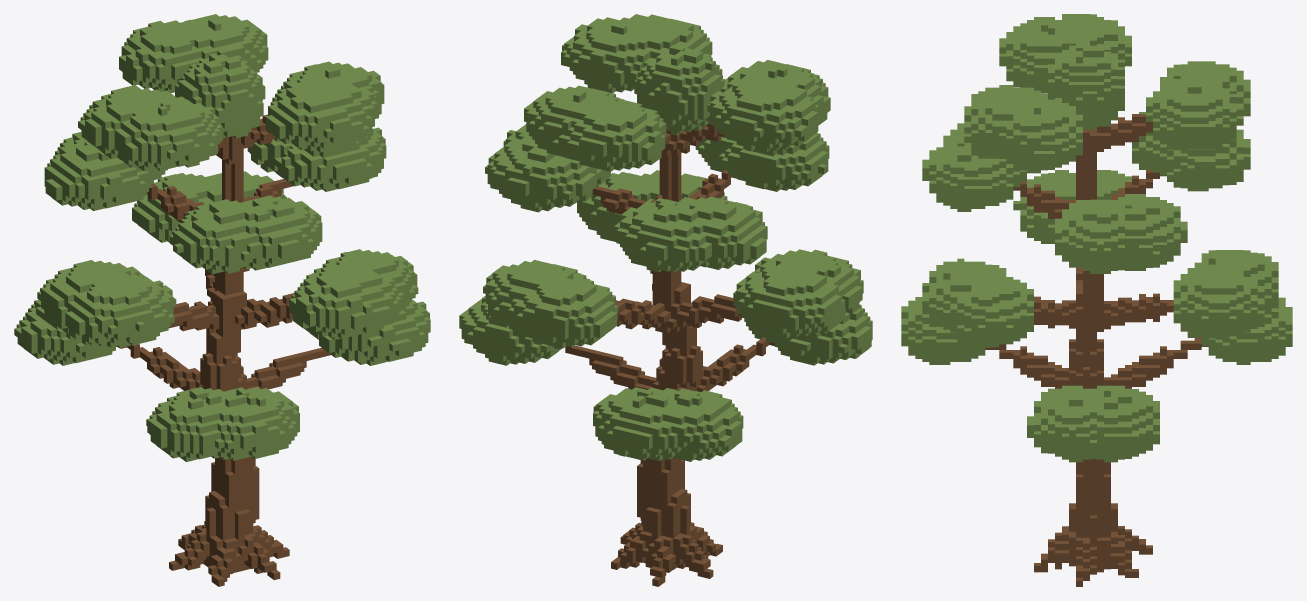
The picture shows the model from 3 angles, left to right: view 1: azimuth 30°, elevation 25°; view 2: azimuth 150°, elevation 25°; view 3: azimuth 270°, elevation 25°; orthographic projection.
Parts seen in each view (by area): view 1: 既有乔木色阶与高度族; view 2: 既有乔木色阶与高度族; view 3: 既有乔木色阶与高度族.
Boxes of the visible parts, <box> form: 既有乔木色阶与高度族: <box>14,14,430,586</box>; 既有乔木色阶与高度族: <box>459,14,872,586</box>; 既有乔木色阶与高度族: <box>901,14,1292,586</box>.
Bounding box in the file's own units: 11.8 × 16 × 11.2.
3 materials, 3 textured.
